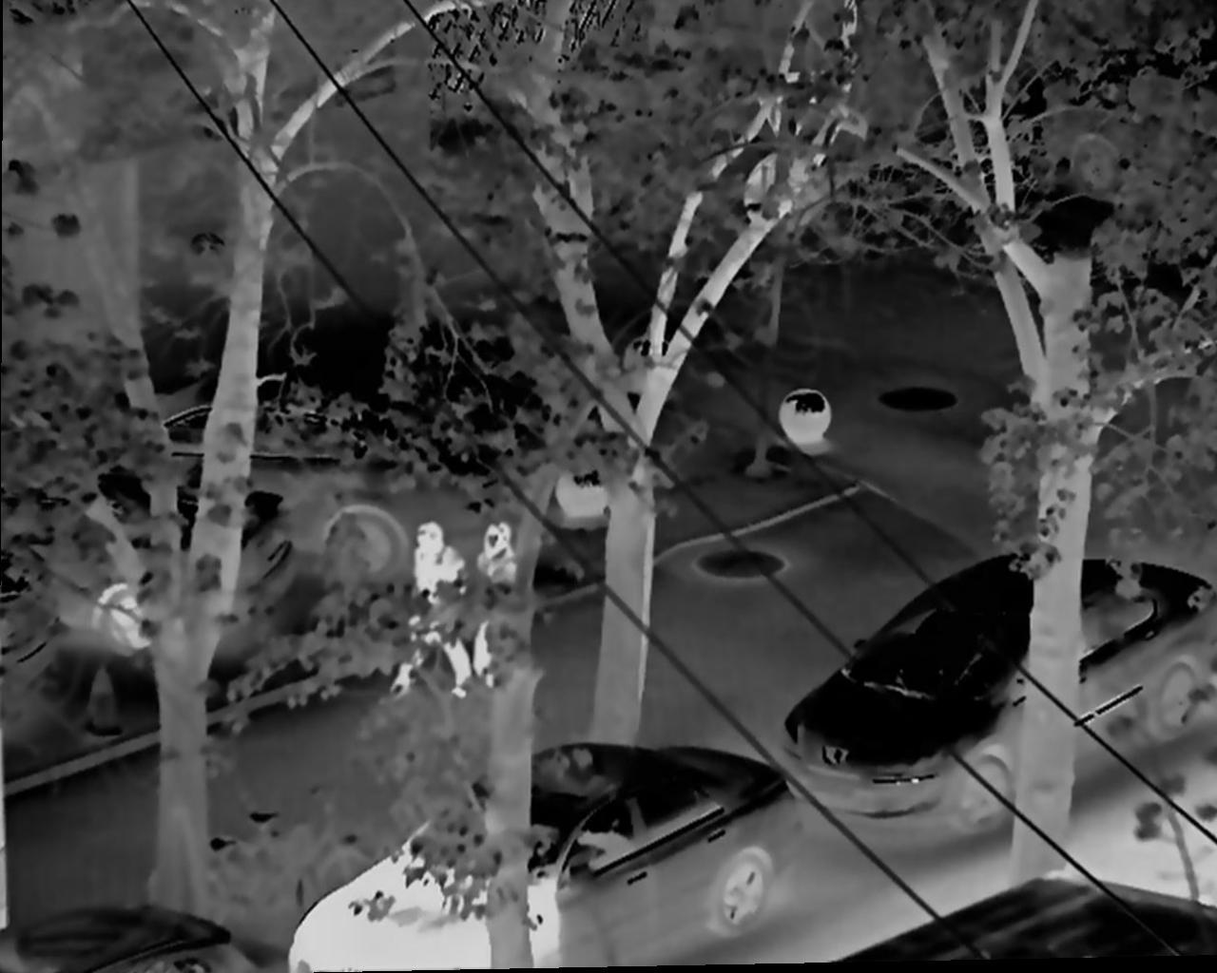person: (454, 523, 541, 705), (395, 519, 475, 703)
